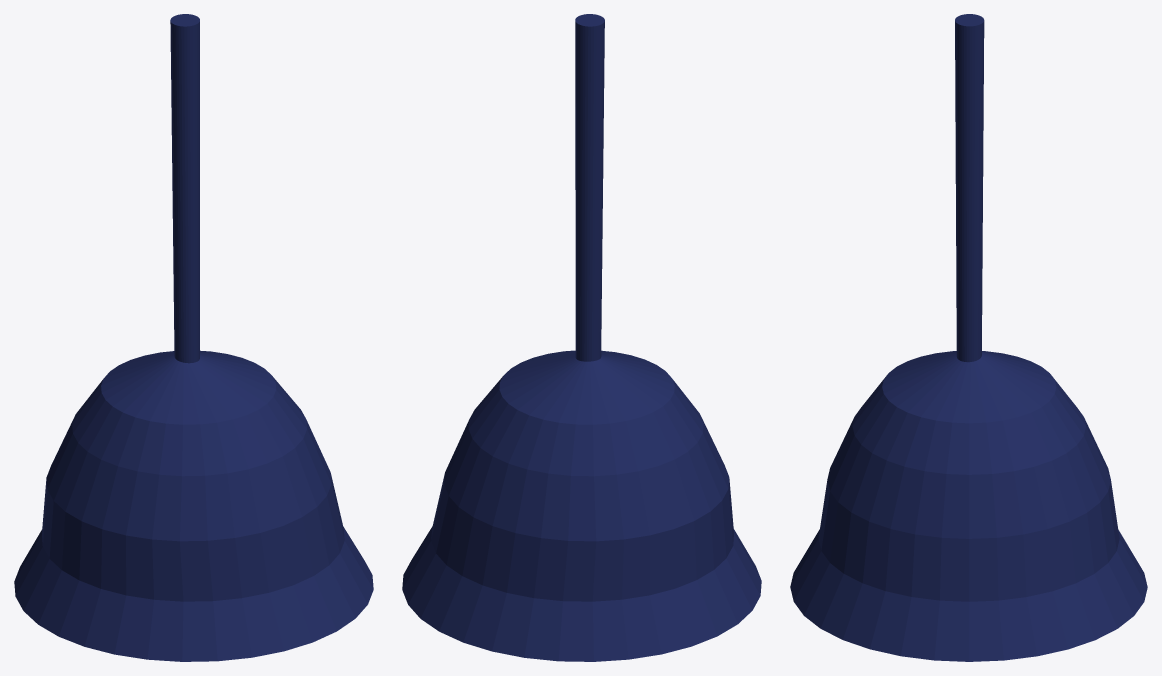
File: LAMPE FERTIG.fbx
3 renders of one model, left to right at view 1: azimuth 30°, elevation 25°; view 2: azimuth 150°, elevation 25°; view 3: azimuth 270°, elevation 25°, orthographic.
Visible parts, largest first — view 1: schirm; view 2: schirm; view 3: schirm.
Boxes of the visible parts, x1,y1,x2,y2 form: schirm: [14, 14, 373, 661]; schirm: [402, 14, 761, 661]; schirm: [790, 14, 1147, 661].
Bounding box in the file's own units: 133 × 231 × 133.
